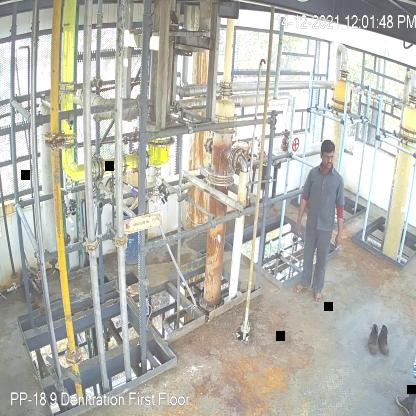no_shoes: (292, 283, 309, 293), (312, 291, 322, 304)
shoes: (367, 323, 382, 356), (379, 325, 391, 354)
